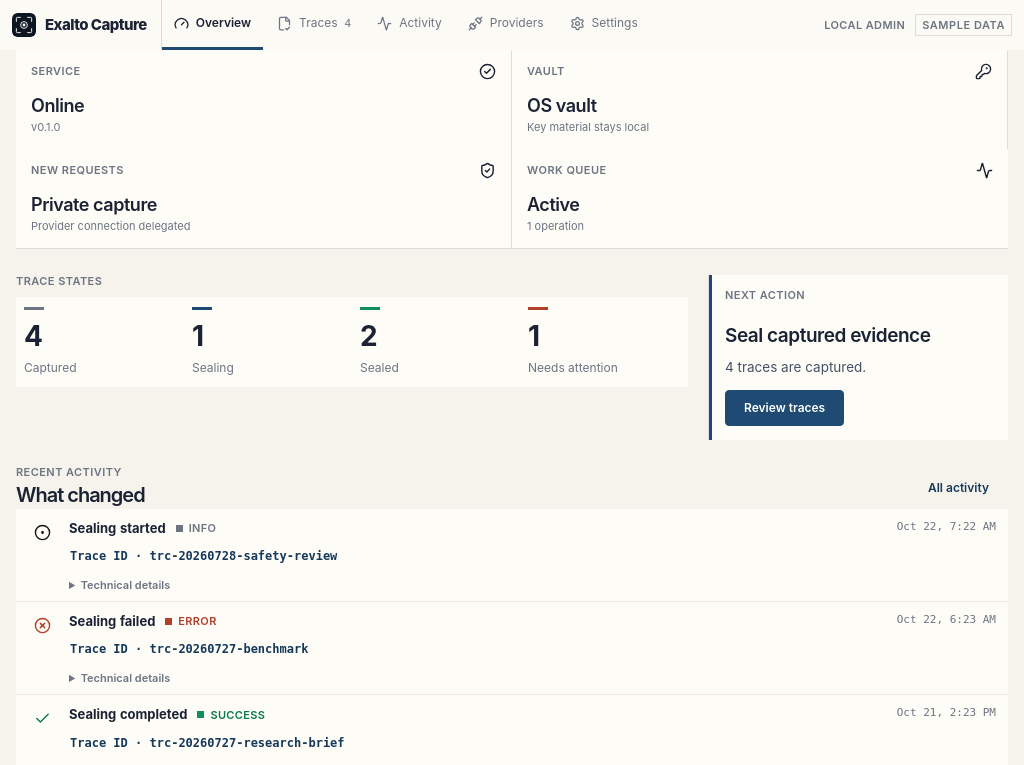
Notary admin dashboard › shows the four canonical trace counts and routes all of them to Traces
Click the button "1 Sealing" at (268, 342), box [184,297,352,387]
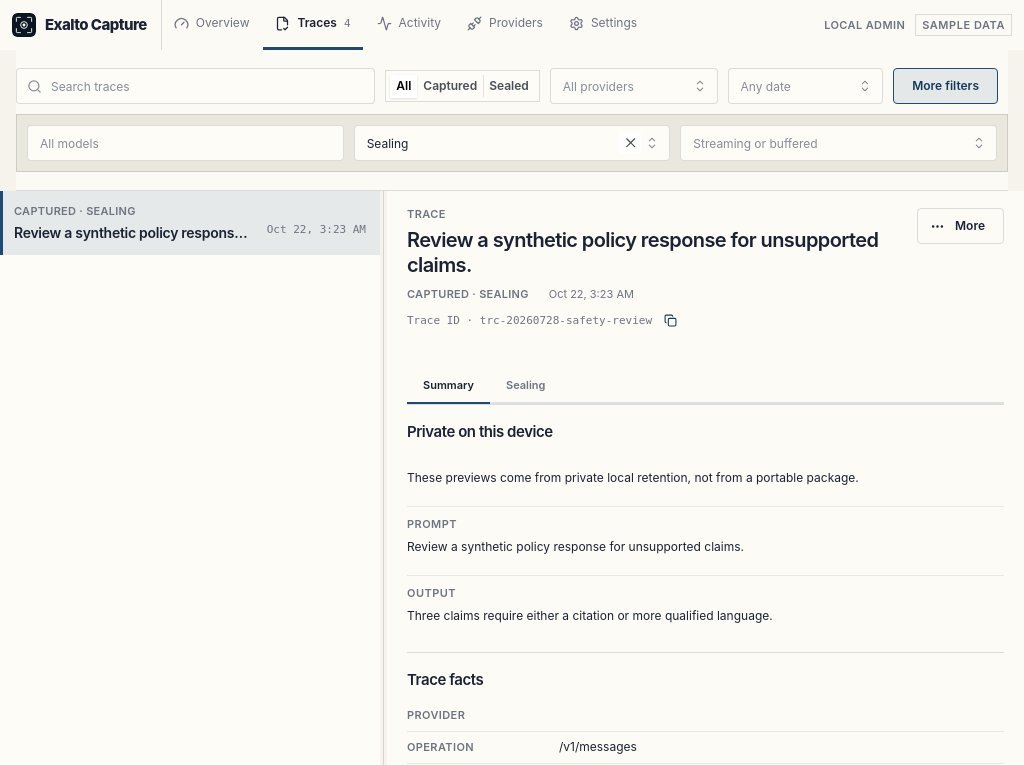
Expected: the field labelled "Search traces" is shown, [16,68,375,104]
